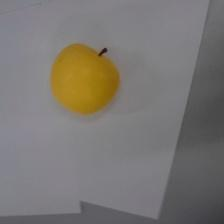yellow: (51, 44, 119, 113)
